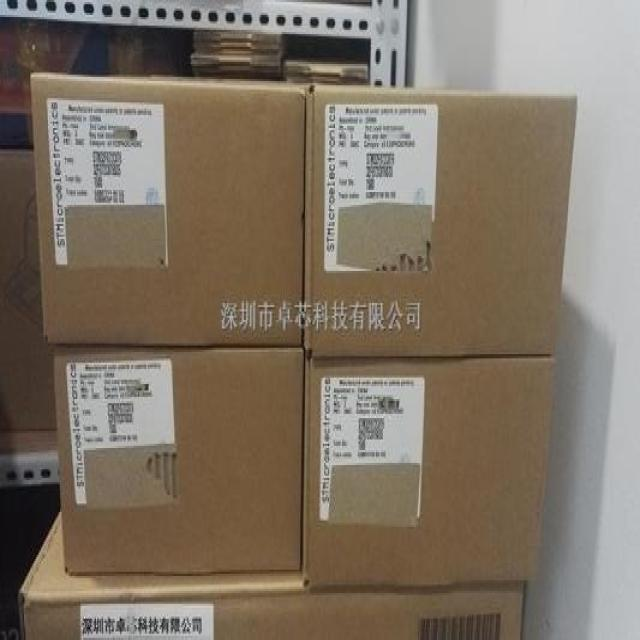box: (297, 81, 578, 356), (31, 70, 306, 346), (18, 512, 526, 640), (303, 352, 558, 591), (53, 343, 304, 574), (0, 149, 56, 431)
